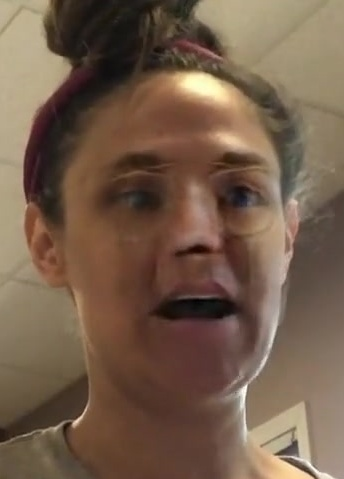n_f: (163, 175, 233, 268)
